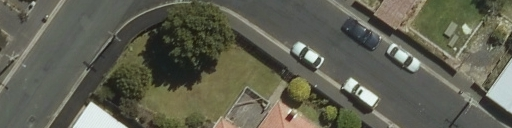DT: (452, 86, 481, 115)
